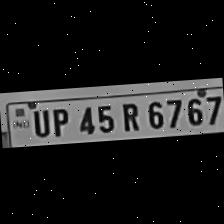4: (72, 102, 95, 134)
5: (92, 99, 116, 132)
6: (141, 96, 165, 128), (181, 94, 203, 125)
7: (162, 94, 182, 128), (203, 91, 223, 125)
P: (46, 104, 70, 136)
R: (115, 97, 141, 132)
U: (28, 105, 50, 136)
